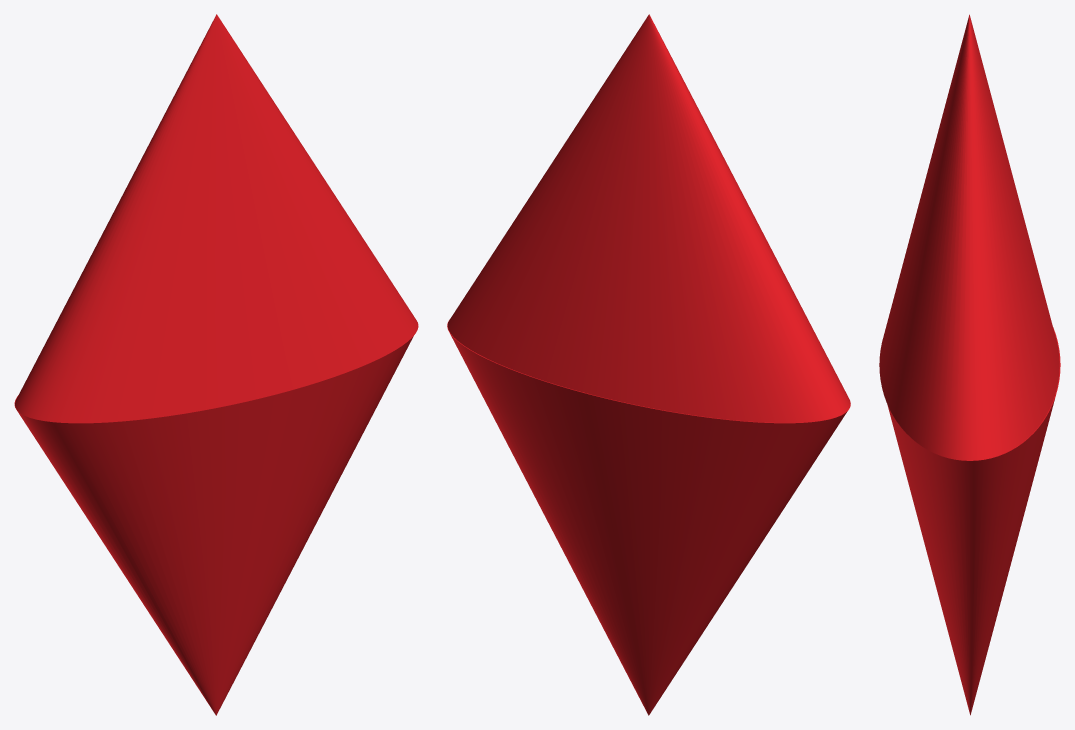
File: Slime.fbx
3 renders of one model, left to right at view 1: azimuth 30°, elevation 25°; view 2: azimuth 150°, elevation 25°; view 3: azimuth 270°, elevation 25°, orthographic.
Visible parts, largest first — view 1: root, node_id59; view 2: root, node_id59; view 3: root, node_id59.
Boxes of the visible parts, x1,y1,x2,y2 form: root: [15, 14, 418, 423]; node_id59: [14, 336, 413, 715]; root: [447, 14, 850, 422]; node_id59: [447, 321, 847, 715]; root: [879, 14, 1059, 460]; node_id59: [887, 327, 1060, 715].
Bounding box in the file's own units: 0.1025 × 0.1749 × 0.0409.
